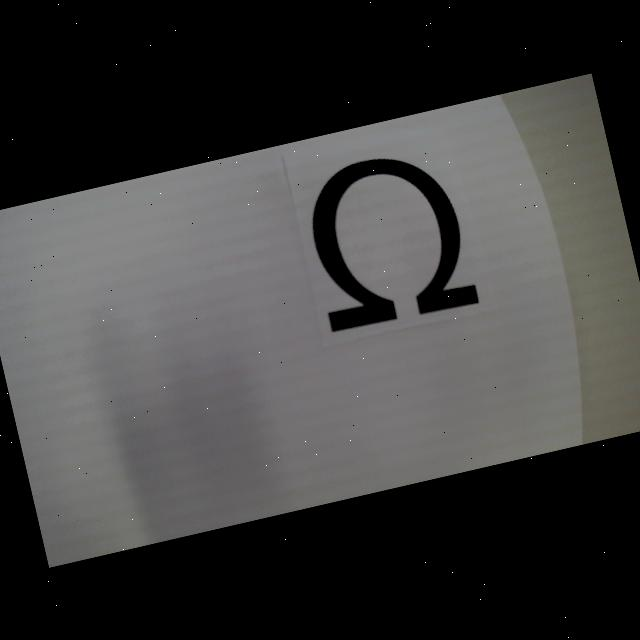OMEGA: (296, 142, 479, 335)
